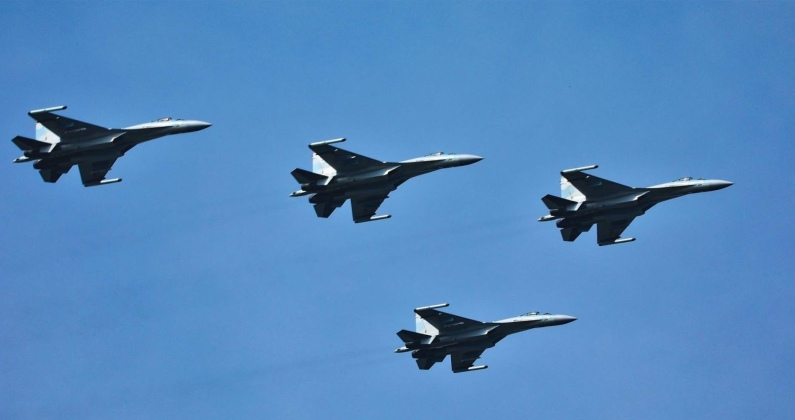Su35: (534, 160, 737, 249), (287, 136, 486, 224), (8, 104, 215, 188), (391, 301, 580, 377)
